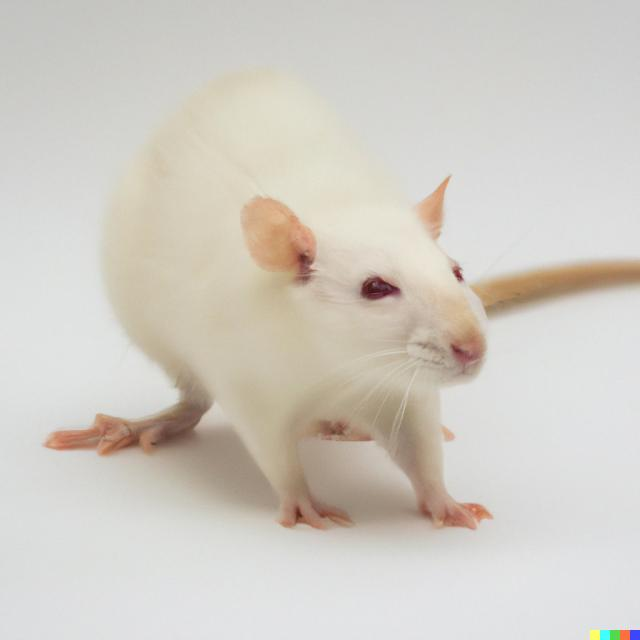rodents: (92, 60, 540, 544)
